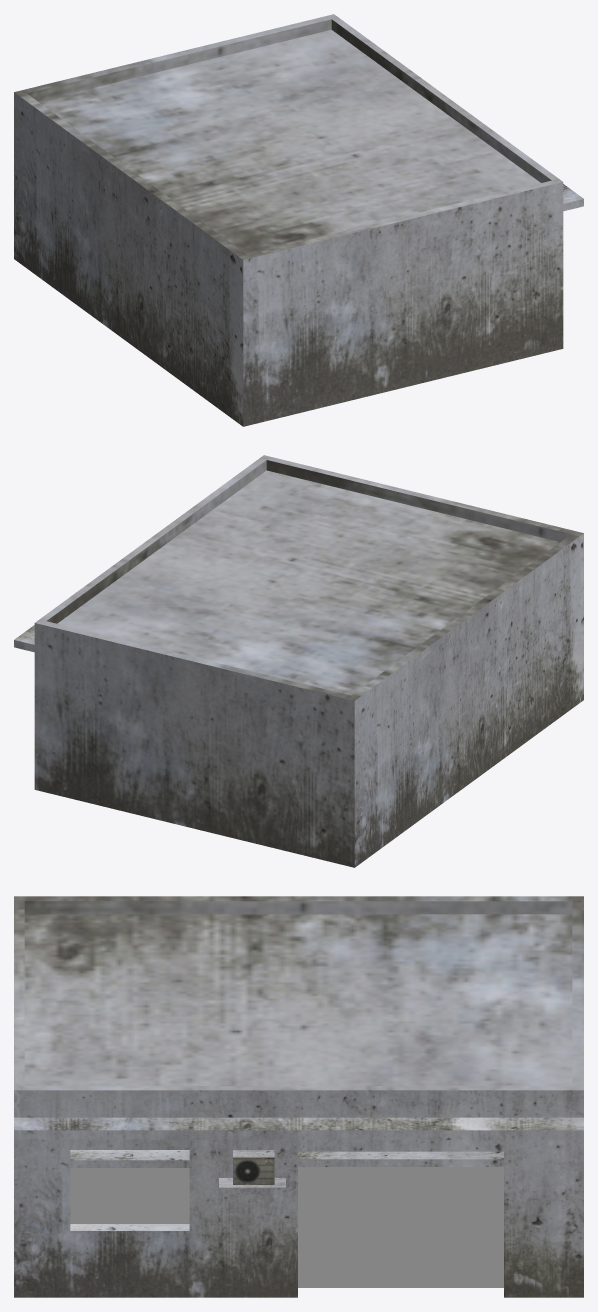
3 renders of one model, top to bottom at view 1: azimuth 30°, elevation 25°; view 2: azimuth 150°, elevation 25°; view 3: azimuth 270°, elevation 25°, orthographic. The views are drawn at different scales.
Visible parts, largest first — view 1: Model; view 2: Model; view 3: Model.
Part boxes in pixels (<box>): Model: <box>14,14,583,426</box>; Model: <box>14,455,583,867</box>; Model: <box>14,896,583,1297</box>.
Bounding box in the file's own units: 220 × 103 × 256.
